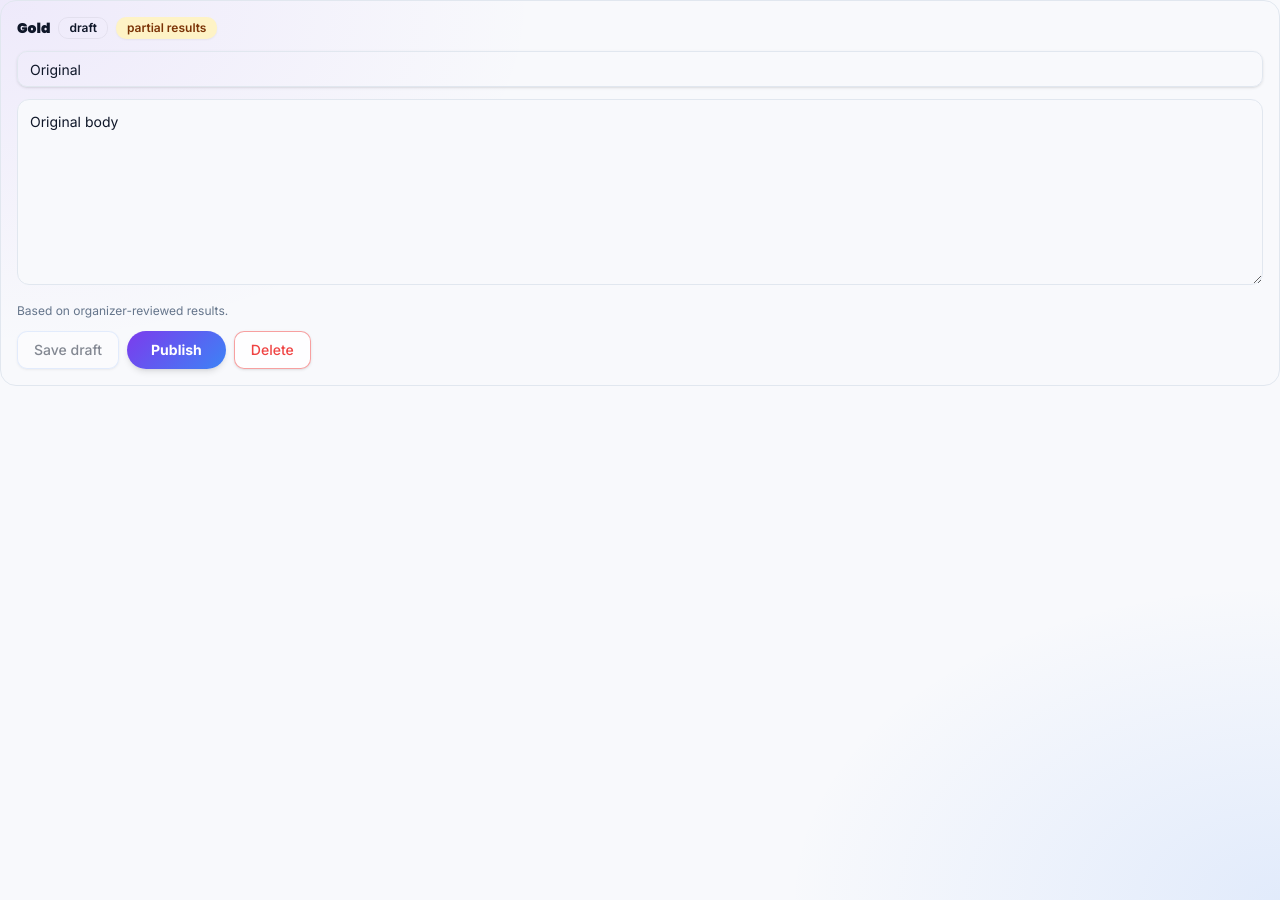
Test: does not roll a successful save back to an older cached workspace revision
The image size is (1280, 900).
Type " edited" into the field with test id "input-recap-title-s1" at (640, 69), box [17,51,1263,87]
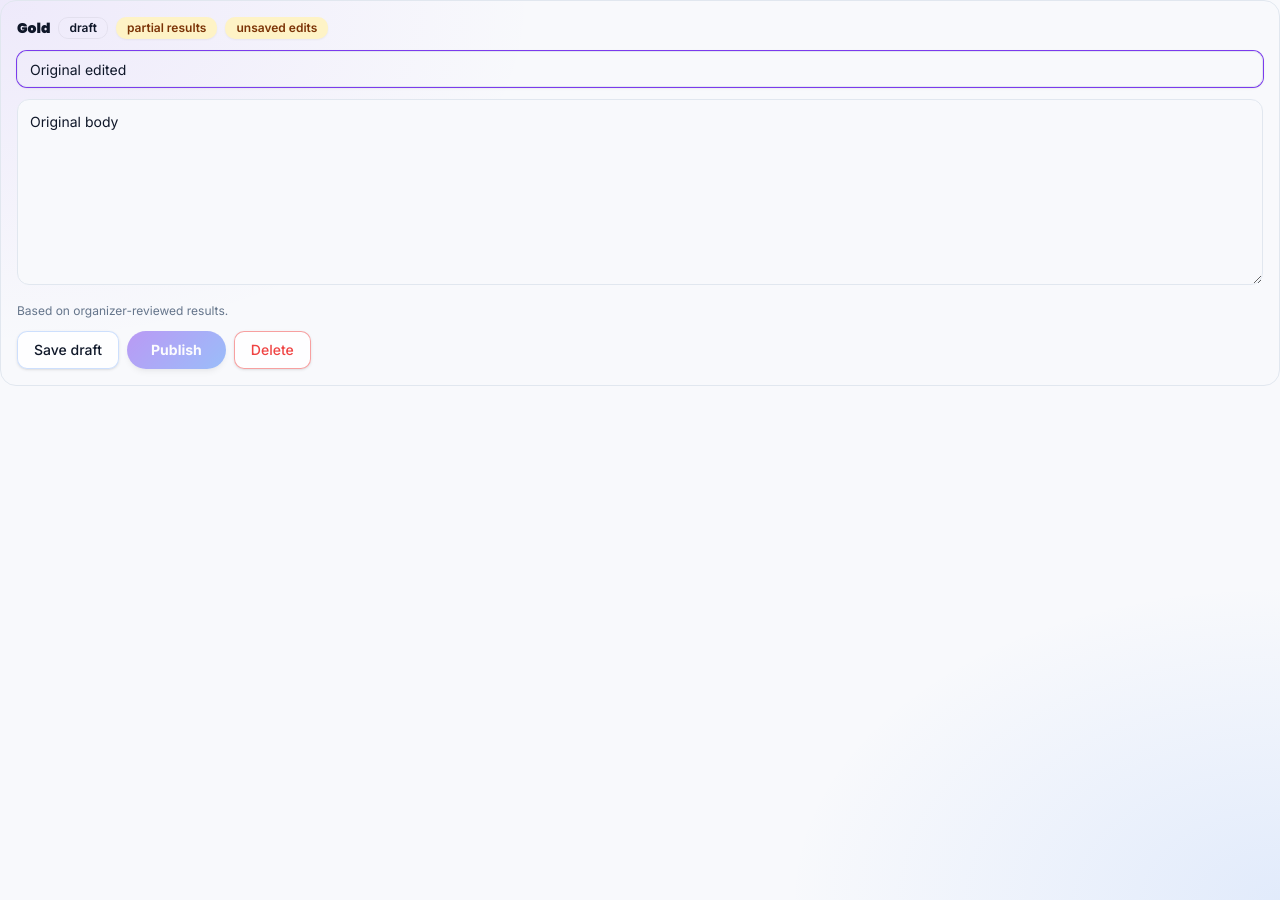
Click the button with test id "btn-save-recap-s1" at (68, 350), box [17,331,119,369]
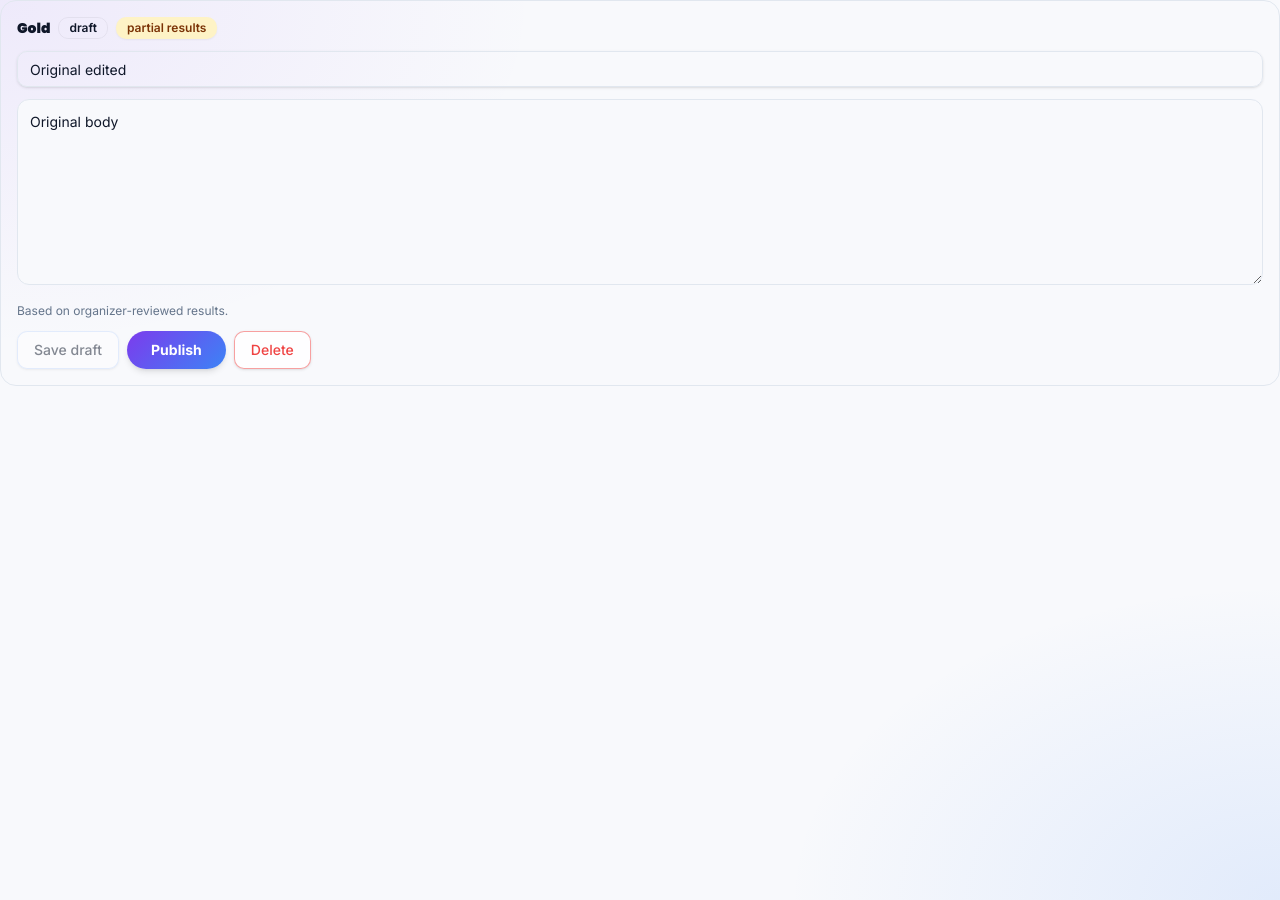
Expected: the field with test id "input-recap-title-s1" holds "Original edited", [17,51,1263,87]
Expected: the button with test id "btn-save-recap-s1" is disabled, [17,331,119,369]
